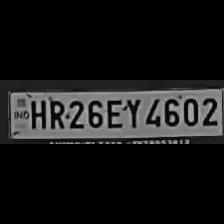0: (180, 96, 198, 127)
2: (65, 97, 84, 129), (200, 94, 218, 126)
4: (142, 96, 160, 128)
6: (85, 97, 103, 128), (162, 95, 178, 127)
E: (105, 97, 123, 129)
H: (27, 97, 45, 129)
R: (46, 97, 64, 130)
Y: (123, 96, 141, 128)
